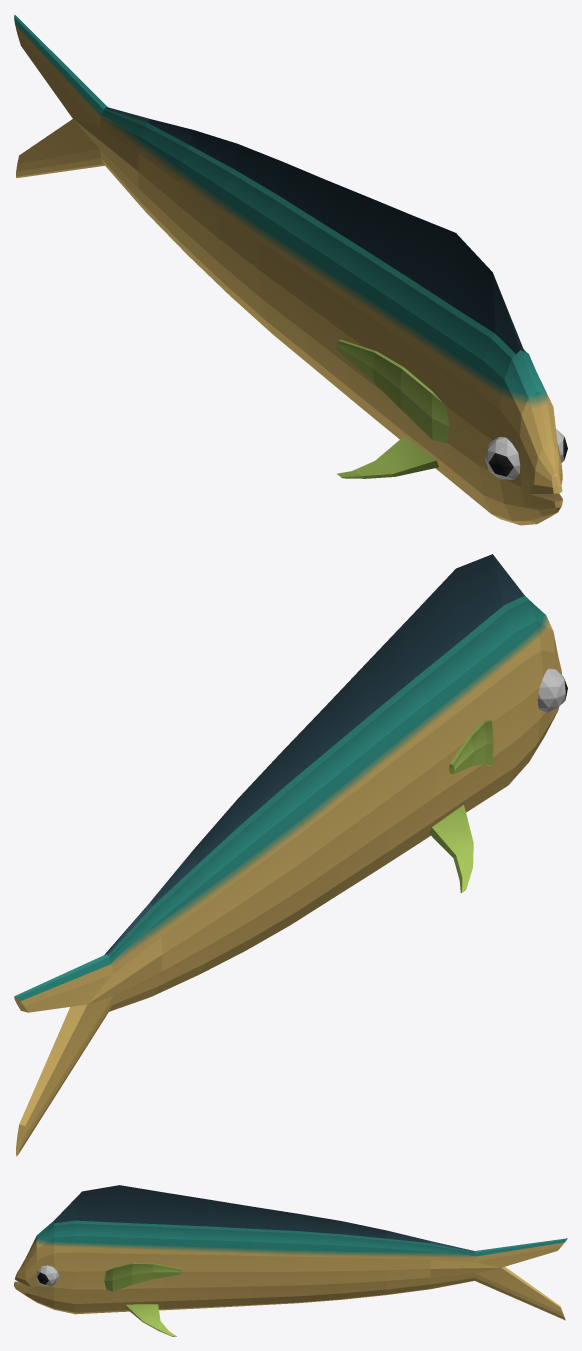
File: mahi_mahi.glb
The picture shows the model from 3 angles, top to bottom: view 1: azimuth 30°, elevation 25°; view 2: azimuth 150°, elevation 25°; view 3: azimuth 270°, elevation 25°; orthographic projection. The views are drawn at different scales.
Visible parts, largest first — view 1: Cylinder.041, eye.shaded.048; view 2: Cylinder.041, eye.shaded.048; view 3: Cylinder.041, eye.shaded.047.
Boxes of the visible parts, x1,y1,x2,y2 form: Cylinder.041: (14, 15, 562, 525); eye.shaded.048: (484, 437, 520, 479); Cylinder.041: (14, 554, 561, 1156); eye.shaded.048: (537, 668, 567, 712); Cylinder.041: (14, 1185, 567, 1336); eye.shaded.047: (36, 1265, 59, 1286).
Size of the model in its own units: 1.66 by 3.39 by 12.48.
Materials: 3 (3 with a texture image).
